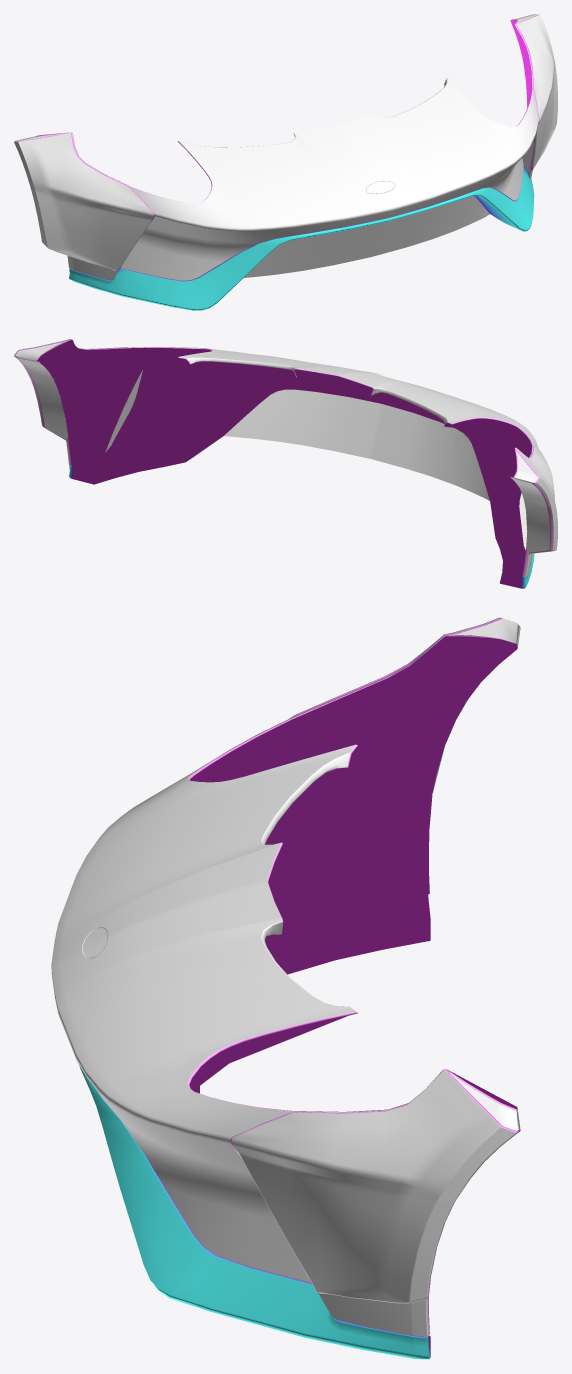
File: Car_Ford_GT_2017_BumperF_SetA_AltA.fbx
3 views of the same model, one above another, from view 1: azimuth 30°, elevation 25°; view 2: azimuth 150°, elevation 25°; view 3: azimuth 270°, elevation 25° (orthographic). The views are drawn at different scales.
Visible parts, largest first — view 1: BumperF 6; view 2: BumperF 6; view 3: BumperF 6.
Part boxes in pixels (bbox=[...]): BumperF 6: bbox=[14, 14, 557, 310]; BumperF 6: bbox=[14, 339, 557, 588]; BumperF 6: bbox=[51, 617, 520, 1359].
Bounding box in the file's own units: 2.14 × 0.5584 × 0.8296.
